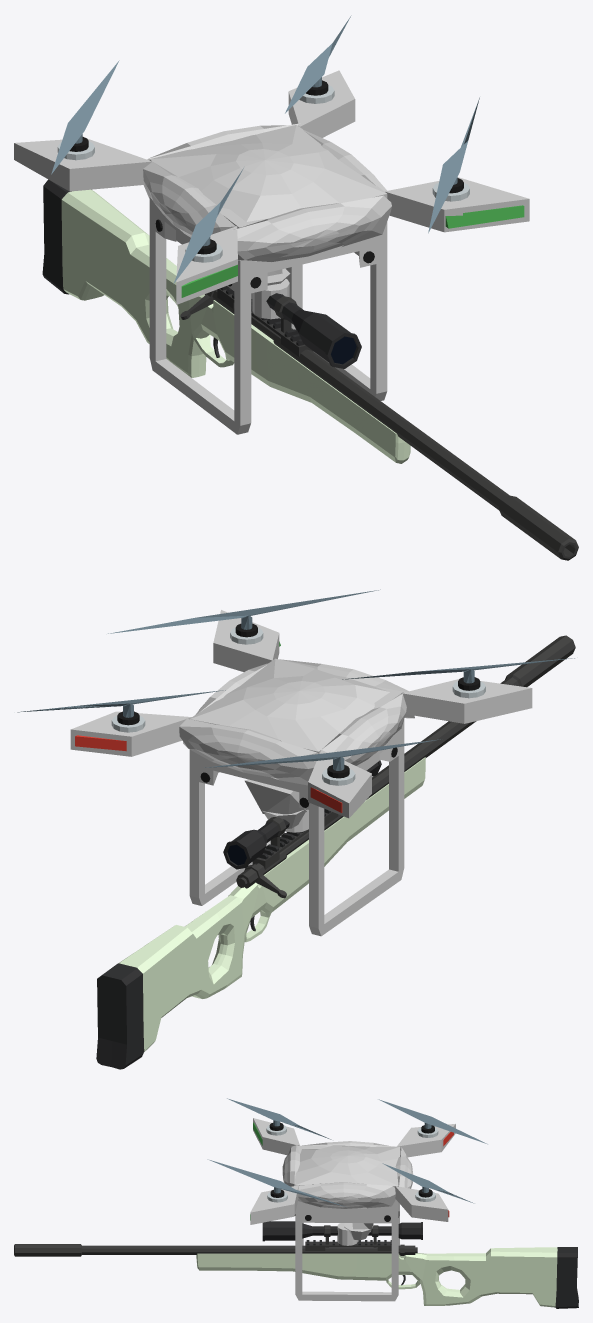
File: DroneSniper.fbx
3 views of the same model, one above another, from view 1: azimuth 30°, elevation 25°; view 2: azimuth 150°, elevation 25°; view 3: azimuth 270°, elevation 25° (orthographic). The views are drawn at different scales.
Parts seen in each view (by area): view 1: SniperRifle_3, group1802215358, group2114471358, group2109774117, group1635633909, group992375522, group1506967990, group1472813429, group1351310026, group562219596, group1947824049, group1345748236 (+10 smaller); view 2: SniperRifle_3, group1802215358, group1900742671, group1947824049, group1351310026, group992375522, group1635633909, group1434348068, group2109774117, group562219596, group1506967990, group1345748236 (+9 smaller); view 3: SniperRifle_3, group1802215358, group1451992339, group1351310026, group1635633909, group2109774117, group1719908566, group1947824049, group1013127126, group1726010505, group1472813429, group1434348068 (+8 smaller).
Boxes of the visible parts, bbox=[...] form: SniperRifle_3: bbox=[42, 179, 578, 560]; group1802215358: bbox=[150, 125, 386, 221]; group2114471358: bbox=[233, 195, 391, 261]; group2109774117: bbox=[14, 138, 152, 191]; group1635633909: bbox=[384, 177, 529, 232]; group992375522: bbox=[143, 161, 235, 237]; group1506967990: bbox=[234, 276, 251, 425]; group1472813429: bbox=[370, 244, 387, 393]; group1351310026: bbox=[288, 70, 355, 137]; group562219596: bbox=[149, 210, 166, 361]; group1947824049: bbox=[176, 226, 237, 304]; group1345748236: bbox=[149, 357, 250, 434]; SniperRifle_3: bbox=[96, 635, 575, 1069]; group1802215358: bbox=[190, 658, 389, 751]; group1900742671: bbox=[179, 718, 318, 785]; group1947824049: bbox=[401, 679, 532, 723]; group1351310026: bbox=[70, 711, 191, 756]; group992375522: bbox=[321, 693, 406, 765]; group1635633909: bbox=[213, 610, 279, 671]; group1434348068: bbox=[189, 764, 204, 897]; group2109774117: bbox=[308, 750, 371, 818]; group562219596: bbox=[309, 804, 324, 928]; group1506967990: bbox=[389, 737, 404, 871]; group1345748236: bbox=[309, 868, 404, 936]; SniperRifle_3: bbox=[14, 1221, 578, 1308]; group1802215358: bbox=[295, 1145, 400, 1185]; group1451992339: bbox=[298, 1182, 395, 1208]; group1351310026: bbox=[395, 1186, 448, 1221]; group1635633909: bbox=[250, 1185, 298, 1224]; group2109774117: bbox=[397, 1123, 455, 1157]; group1719908566: bbox=[295, 1291, 398, 1301]; group1947824049: bbox=[253, 1118, 299, 1155]; group1013127126: bbox=[302, 1213, 384, 1223]; group1726010505: bbox=[295, 1201, 398, 1213]; group1472813429: bbox=[295, 1213, 302, 1294]; group1434348068: bbox=[391, 1214, 398, 1295].
Size of the model in its own units: 77.59 by 49.9 by 164.
